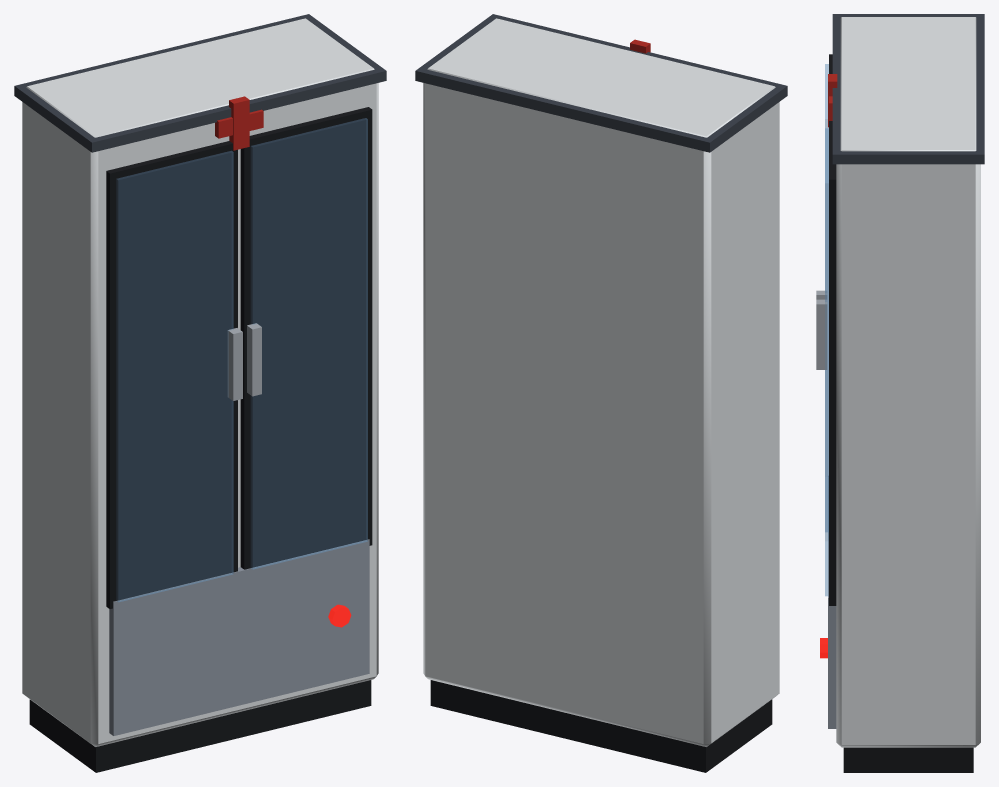
The model's file is medcabinet_medicine_cabinet.glb.
The picture shows the model from 3 angles, left to right: view 1: azimuth 30°, elevation 25°; view 2: azimuth 150°, elevation 25°; view 3: azimuth 270°, elevation 25°; orthographic projection. The views are drawn at different scales.
Parts seen in each view (by area): view 1: medcabinet_medicine_cabinet; view 2: medcabinet_medicine_cabinet; view 3: medcabinet_medicine_cabinet.
Boxes of the visible parts, <box> form: medcabinet_medicine_cabinet: <box>14,14,386,772</box>; medcabinet_medicine_cabinet: <box>415,14,787,772</box>; medcabinet_medicine_cabinet: <box>816,14,984,772</box>.
Bounding box in the file's own units: 0.92 × 1.92 × 0.465.
